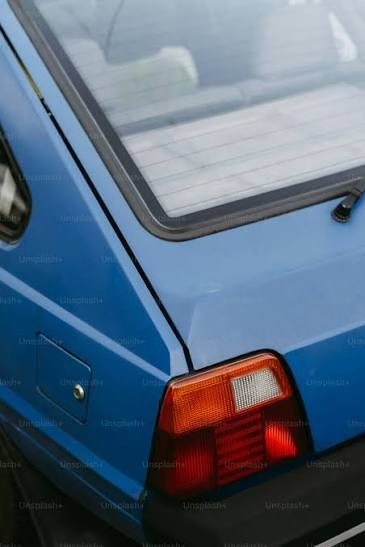car: (4, 8, 365, 542)
